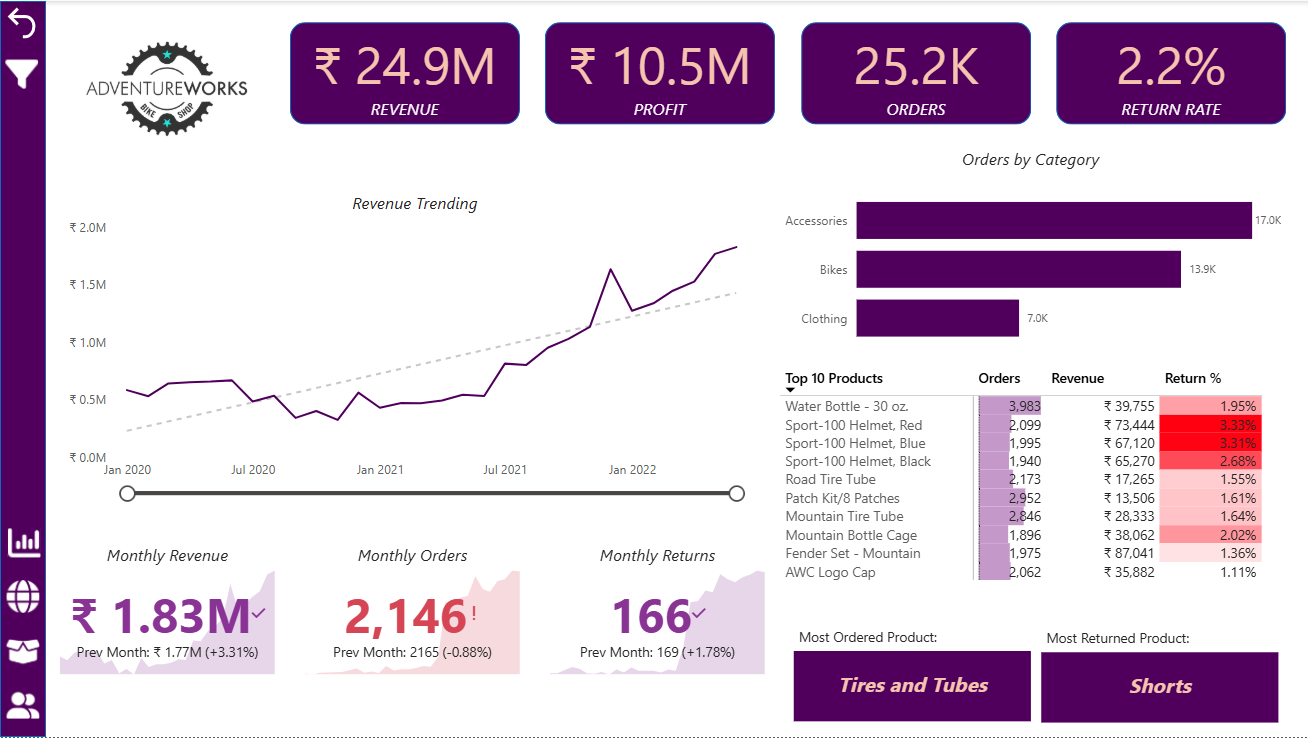

The dashboard page shown, as its layout file describes it:
{"tool":"powerbi","page":{"name":"Exec Dashboard","canvas":[1280,720],"ordinal":0},"visuals":[{"type":"shape","box":[0,0,45,720],"z":0},{"type":"actionButton","box":[4.2,509.9,45.2,40.4],"z":1000},{"type":"image","box":[62.4,13.5,203,145.5],"z":2000},{"type":"shape","box":[783.4,21.2,225,100],"z":2000,"group":"g3"},{"type":"shape","box":[1033.3,21.2,225,100],"z":3000,"group":"g4"},{"type":"actionButton","box":[2.4,616.3,45.2,40.4],"z":3000},{"type":"lineChart","title":"Revenue Trending","fields":{"Y":["Measure Table.Total Revenue"],"Category":["Calendar Lookup.Year","Calendar Lookup.Start of Quarter","Calendar Lookup.Date Hierarchy.Start of Month"]},"box":[62.4,185.9,687.2,306.9],"z":4000},{"type":"actionButton","box":[2.4,668.9,45.2,40.4],"z":5000},{"type":"shape","box":[283.7,21.2,225,100],"z":6000,"group":"g1"},{"type":"kpi","title":"Monthly Revenue","fields":{"Indicator":["Measure Table.Total Revenue"],"Goal":["Measure Table.Previous Month Revenue"],"TrendLine":["Calendar Lookup.Date Hierarchy.Start of Month"]},"box":[53.8,530.7,220.1,133.3],"z":6000},{"type":"card","fields":{"Values":["Measure Table.Total Orders"]},"box":[783.4,0,225,142.5],"z":7000,"group":"g3"},{"type":"actionButton","box":[2.4,562.5,45.2,40.4],"z":7000},{"type":"card","fields":{"Values":["Measure Table.Return Rate"]},"box":[1033.3,0,225,142.5],"z":8000,"group":"g4"},{"type":"kpi","title":"Monthly Orders","fields":{"TrendLine":["Calendar Lookup.Date Hierarchy.Start of Month"],"Indicator":["Measure Table.Total Orders"],"Goal":["Measure Table.Previous Month Orders"]},"box":[293.5,530.7,220.1,133.3],"z":8000},{"type":"shape","box":[533.6,21.2,225,100],"z":9000,"group":"g2"},{"type":"kpi","title":"Monthly Returns","fields":{"TrendLine":["Calendar Lookup.Date Hierarchy.Start of Month"],"Indicator":["Measure Table.Total Returns"],"Goal":["Measure Table.Previous Month Returns"]},"box":[533.2,530.7,220.1,133.3],"z":9000},{"type":"clusteredBarChart","title":"Orders by Category","fields":{"Category":["Product Categories Lookup.CategoryName"],"Y":["Measure Table.Total Orders"]},"box":[758.2,143.1,500.1,211.6],"z":10000},{"type":"pivotTable","fields":{"Rows":["Product Lookup.ProductName"],"Values":["Measure Table.Total Orders","Measure Table.Total Revenue","Measure Table.Return Rate"]},"box":[758.2,354.6,500.1,221.3],"z":11000},{"type":"group","id":"g1","title":"Group 1","box":[283.7,0,225,143.1],"z":12000},{"type":"card","fields":{"Values":["Min(Product Subcategories Lookup.SubcategoryName)"]},"box":[776.5,635.8,232.3,68.5],"z":12000,"group":"g5"},{"type":"card","fields":{"Values":["Min(Product Subcategories Lookup.SubcategoryName)"]},"box":[1018.6,637.1,232.3,68.5],"z":12000,"group":"g6"},{"type":"group","id":"g2","title":"Group 2","box":[533.6,0,225,143.1],"z":13000},{"type":"card","fields":{"Values":["Measure Table.Total Profit"]},"box":[533.6,0,225,142.5],"z":13000,"group":"g2"},{"type":"textbox","box":[776.5,607.7,232.3,40.4],"z":13000,"group":"g5"},{"type":"textbox","box":[1018.6,609,232.3,40.4],"z":13000,"group":"g6"},{"type":"card","fields":{"Values":["Measure Table.Total Revenue"]},"box":[283.7,0,225,142.5],"z":14000,"group":"g1"},{"type":"group","id":"g3","title":"Group 3","box":[783.4,0,225,143.1],"z":14000},{"type":"group","id":"g4","title":"Group 4","box":[1033.3,0,225,143.1],"z":15000},{"type":"group","id":"g5","title":"Group 5","box":[776.5,607.7,232.3,96.6],"z":16000},{"type":"group","id":"g6","title":"Group 5","box":[1018.6,609,232.3,96.6],"z":17000},{"type":"actionButton","box":[1.2,1.2,45.2,40.4],"z":18000},{"type":"actionButton","box":[1.2,51.4,73.4,40.4],"z":19000}]}

Visuals, with their boxes on the page's 1280x720 design canvas (x1, y1, x2, y2). These are canvas units, not pixel positions in the 1308x738 screenshot, which may show the page scaled, cropped or inside an application window:
shape: 0,0,45,720
actionButton: 4,510,49,550
image: 62,14,265,159
shape: 783,21,1008,121
shape: 1033,21,1258,121
actionButton: 2,616,48,657
"Revenue Trending" lineChart: 62,186,750,493
actionButton: 2,669,48,709
shape: 284,21,509,121
"Monthly Revenue" kpi: 54,531,274,664
card - Measure Table.Total Orders: 783,0,1008,142
actionButton: 2,562,48,603
card - Measure Table.Return Rate: 1033,0,1258,142
"Monthly Orders" kpi: 294,531,514,664
shape: 534,21,759,121
"Monthly Returns" kpi: 533,531,753,664
"Orders by Category" clusteredBarChart: 758,143,1258,355
pivotTable - Product Lookup.ProductName x Measure Table.Total Orders: 758,355,1258,576
"Group 1" group: 284,0,509,143
card - Min(Product Subcategories Lookup.SubcategoryName): 776,636,1009,704
card - Min(Product Subcategories Lookup.SubcategoryName): 1019,637,1251,706
"Group 2" group: 534,0,759,143
card - Measure Table.Total Profit: 534,0,759,142
textbox: 776,608,1009,648
textbox: 1019,609,1251,649
card - Measure Table.Total Revenue: 284,0,509,142
"Group 3" group: 783,0,1008,143
"Group 4" group: 1033,0,1258,143
"Group 5" group: 776,608,1009,704
"Group 5" group: 1019,609,1251,706
actionButton: 1,1,46,42
actionButton: 1,51,75,92
